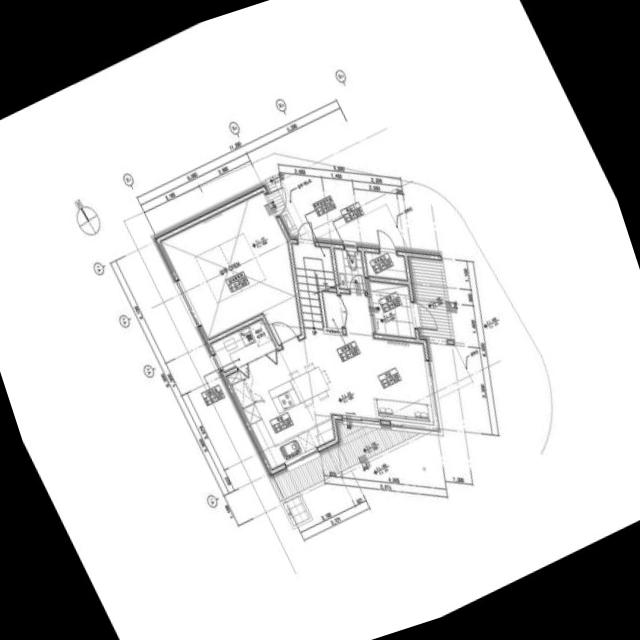background: (0, 0, 640, 640)
space_front: (369, 281, 416, 339)
space_kitchen: (226, 338, 342, 470)
space_living_room: (304, 293, 434, 425)
space_multipurpose_space: (211, 319, 277, 372)
space_other: (161, 192, 302, 346), (365, 251, 408, 281), (323, 291, 342, 329)
space_staircase: (292, 243, 336, 330)
space_toilet: (334, 248, 367, 291)
